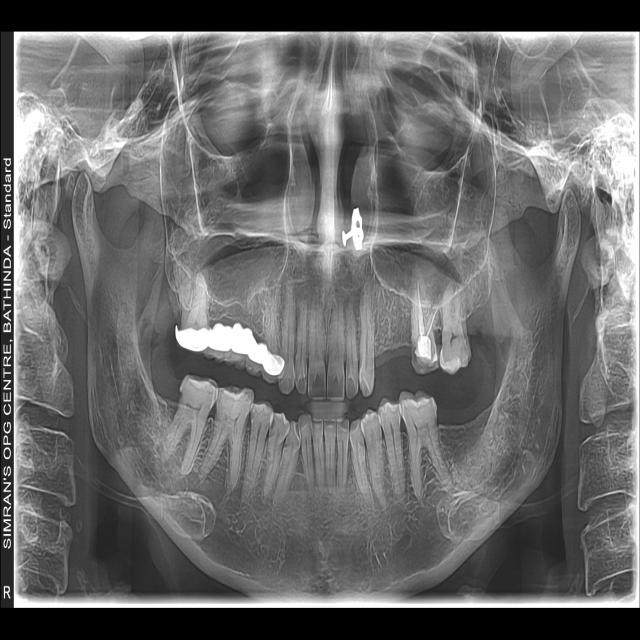Caries: (269, 412, 275, 430), (250, 410, 255, 420), (179, 391, 183, 399)
Crown: (204, 323, 232, 364), (175, 325, 208, 353), (224, 321, 242, 367), (234, 329, 252, 371), (246, 343, 268, 377), (262, 354, 285, 384)
Filling: (415, 335, 432, 360)
Missing teeth: (434, 366, 492, 425), (374, 346, 413, 391)
Root Canal Treatment: (426, 305, 438, 338), (418, 282, 424, 336)
